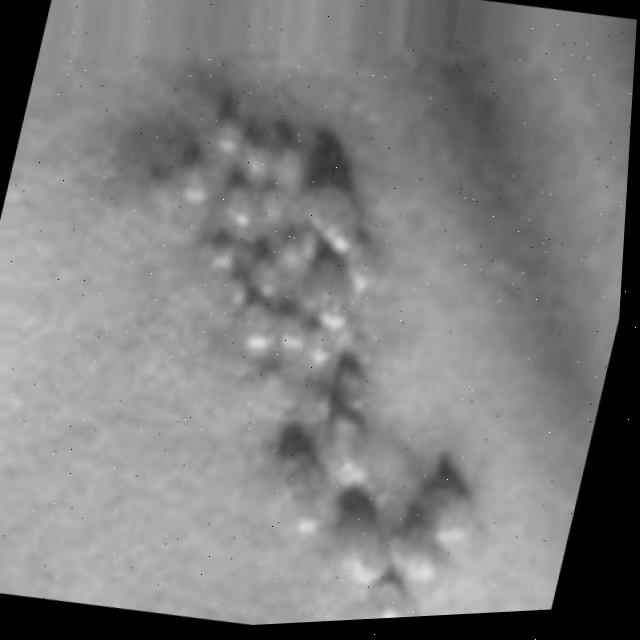Shingles: (57, 64, 575, 635)
